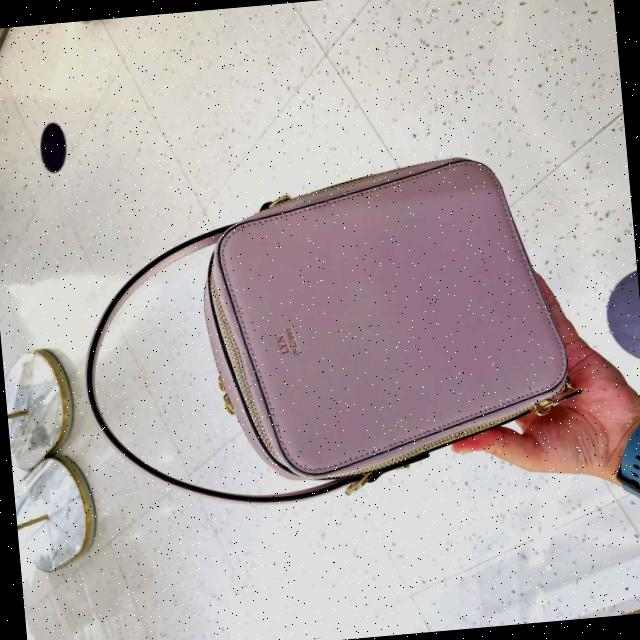Handbag: (191, 145, 577, 485)
